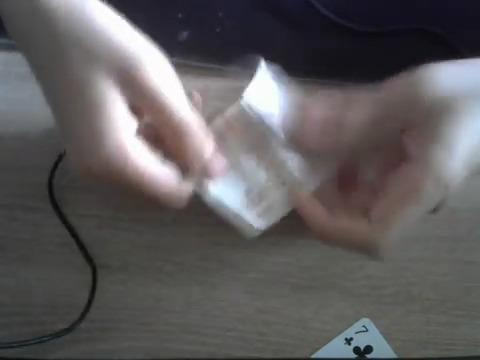5leva: (192, 93, 319, 240)
